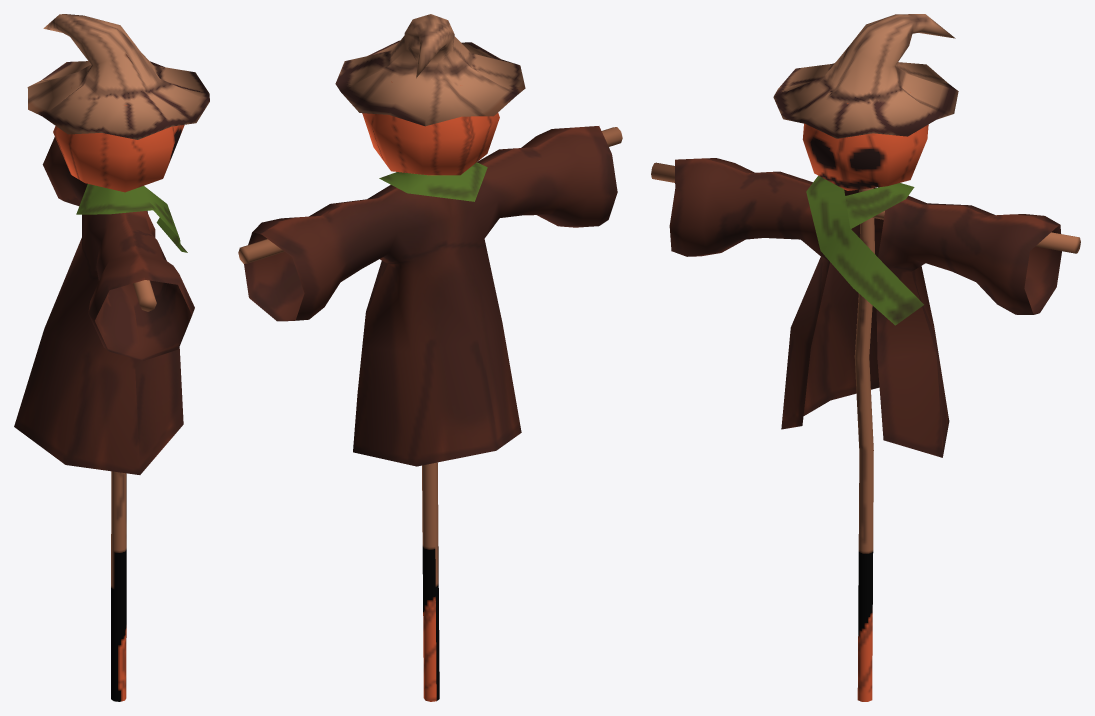
Rendered from sarecrow.fbx.
The picture shows the model from 3 angles, left to right: view 1: azimuth 30°, elevation 25°; view 2: azimuth 150°, elevation 25°; view 3: azimuth 270°, elevation 25°; orthographic projection. The views are drawn at different scales.
Visible parts, largest first — view 1: Scarecrow; view 2: Scarecrow; view 3: Scarecrow.
Part boxes in pixels (x1,y1,x2,y2): Scarecrow: (14,14,209,701); Scarecrow: (238,14,622,701); Scarecrow: (651,14,1080,701).
Size of the model in its own units: 66.69 by 207 by 120.
1 material, 1 textured.
